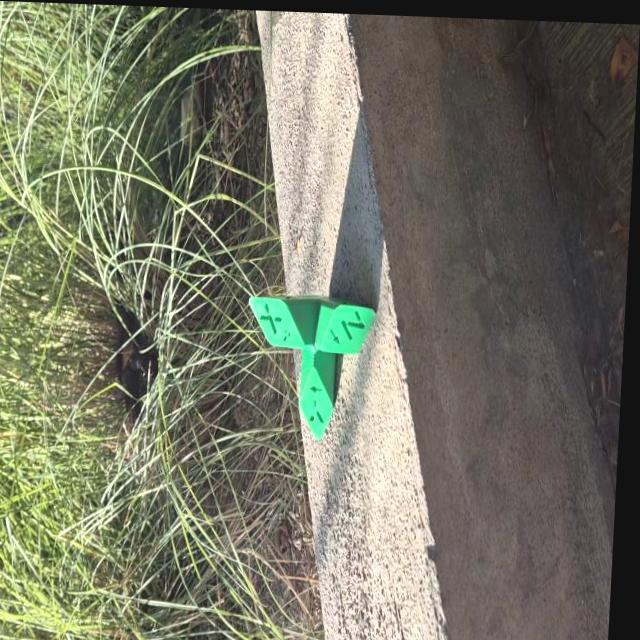eje: (240, 287, 379, 445)
